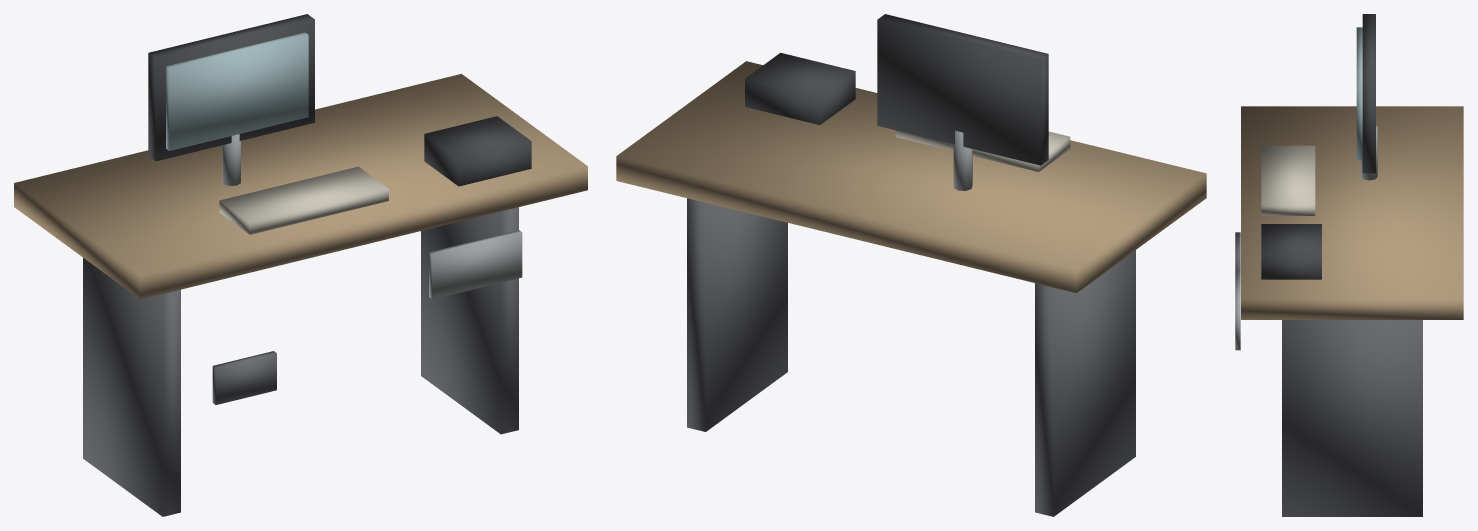
The model's file is modern_workstation__weathered.glb.
3 views of the same model, side by side, from view 1: azimuth 30°, elevation 25°; view 2: azimuth 150°, elevation 25°; view 3: azimuth 270°, elevation 25° (orthographic). The views are drawn at different scales.
Parts seen in each view (by area): view 1: world; view 2: world; view 3: world.
Boxes of the visible parts, left/top/right/bottom form: world: left=14, top=14, right=587, bottom=516; world: left=616, top=14, right=1206, bottom=516; world: left=1235, top=14, right=1463, bottom=516.
Bounding box in the file's own units: 1.35 × 1.2 × 0.6775.
